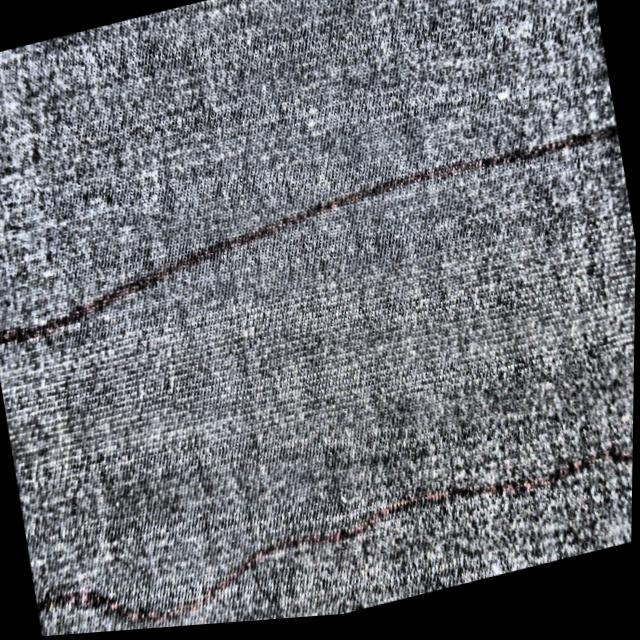Hole: (0, 229, 637, 497), (495, 95, 511, 117)
